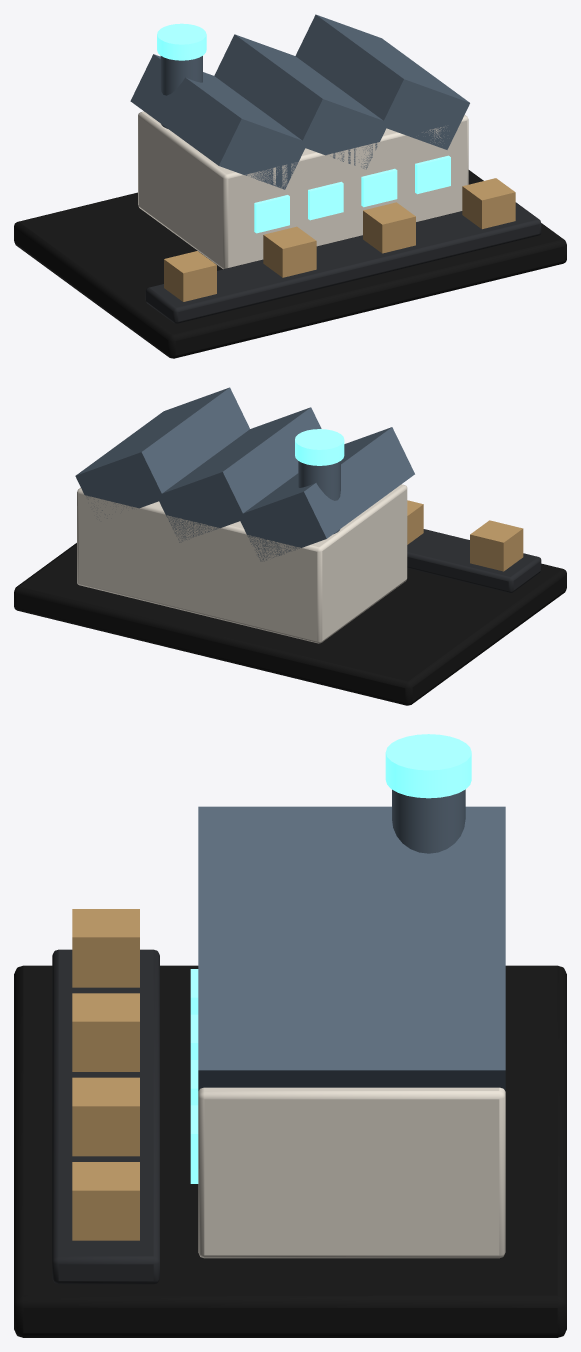
Rendered from factory_toy.fbx.
The picture shows the model from 3 angles, top to bottom: view 1: azimuth 30°, elevation 25°; view 2: azimuth 150°, elevation 25°; view 3: azimuth 270°, elevation 25°; orthographic projection. The views are drawn at different scales.
Parts seen in each view (by area): view 1: Factory; view 2: Factory; view 3: Factory.
Boxes of the visible parts, x1=… form: Factory: x1=14, y1=14, x2=566, y2=358; Factory: x1=14, y1=387, x2=566, y2=705; Factory: x1=14, y1=734, x2=566, y2=1337.
Size of the model in its own units: 0.26 by 0.13 by 0.18.
